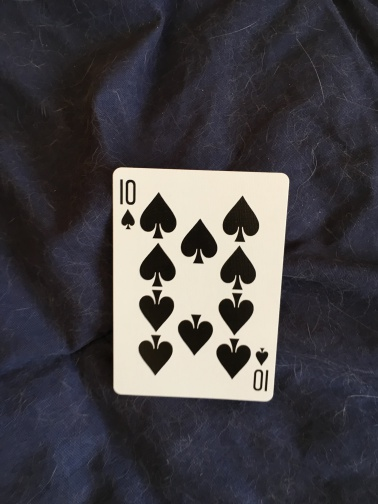ten: (108, 164, 291, 406)
